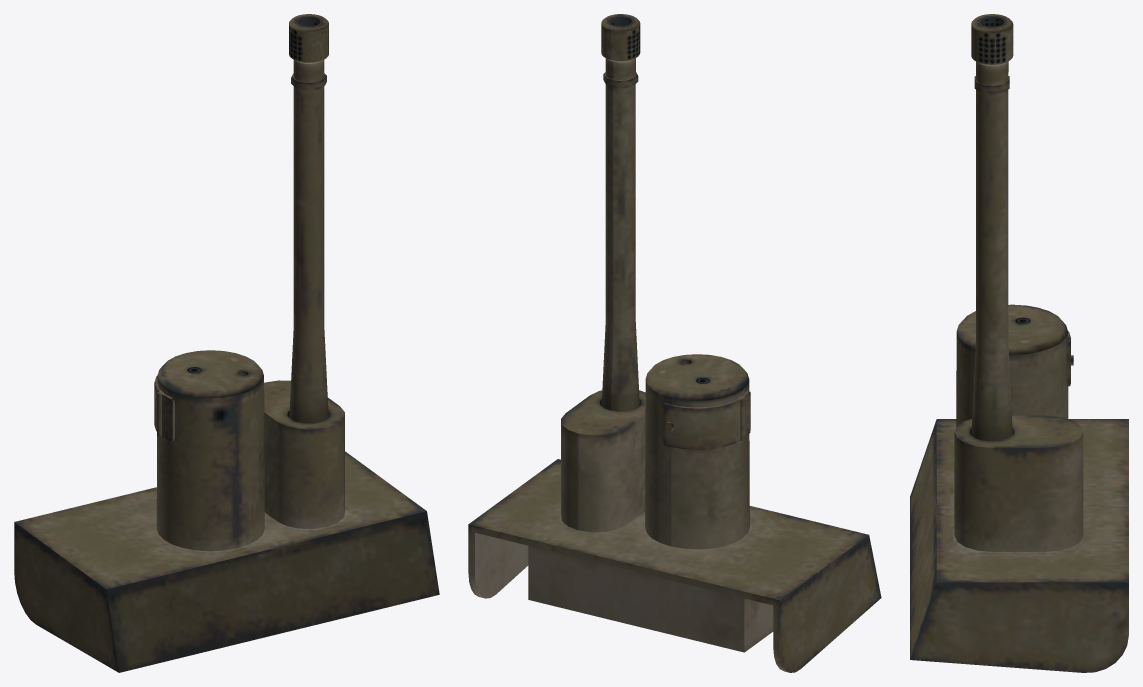
File: Gun_01.glb
The picture shows the model from 3 angles, left to right: view 1: azimuth 30°, elevation 25°; view 2: azimuth 150°, elevation 25°; view 3: azimuth 270°, elevation 25°; orthographic projection. The views are drawn at different scales.
Parts seen in each view (by area): view 1: set_0_group_0; view 2: set_0_group_0; view 3: set_0_group_0.
Part boxes in pixels (x1,y1,x2,y2): set_0_group_0: (14,14,439,672); set_0_group_0: (468,14,881,672); set_0_group_0: (910,14,1128,672).
Size of the model in its own units: 0.774 by 1.34 by 0.4384.
Materials: 1 (1 with a texture image).
